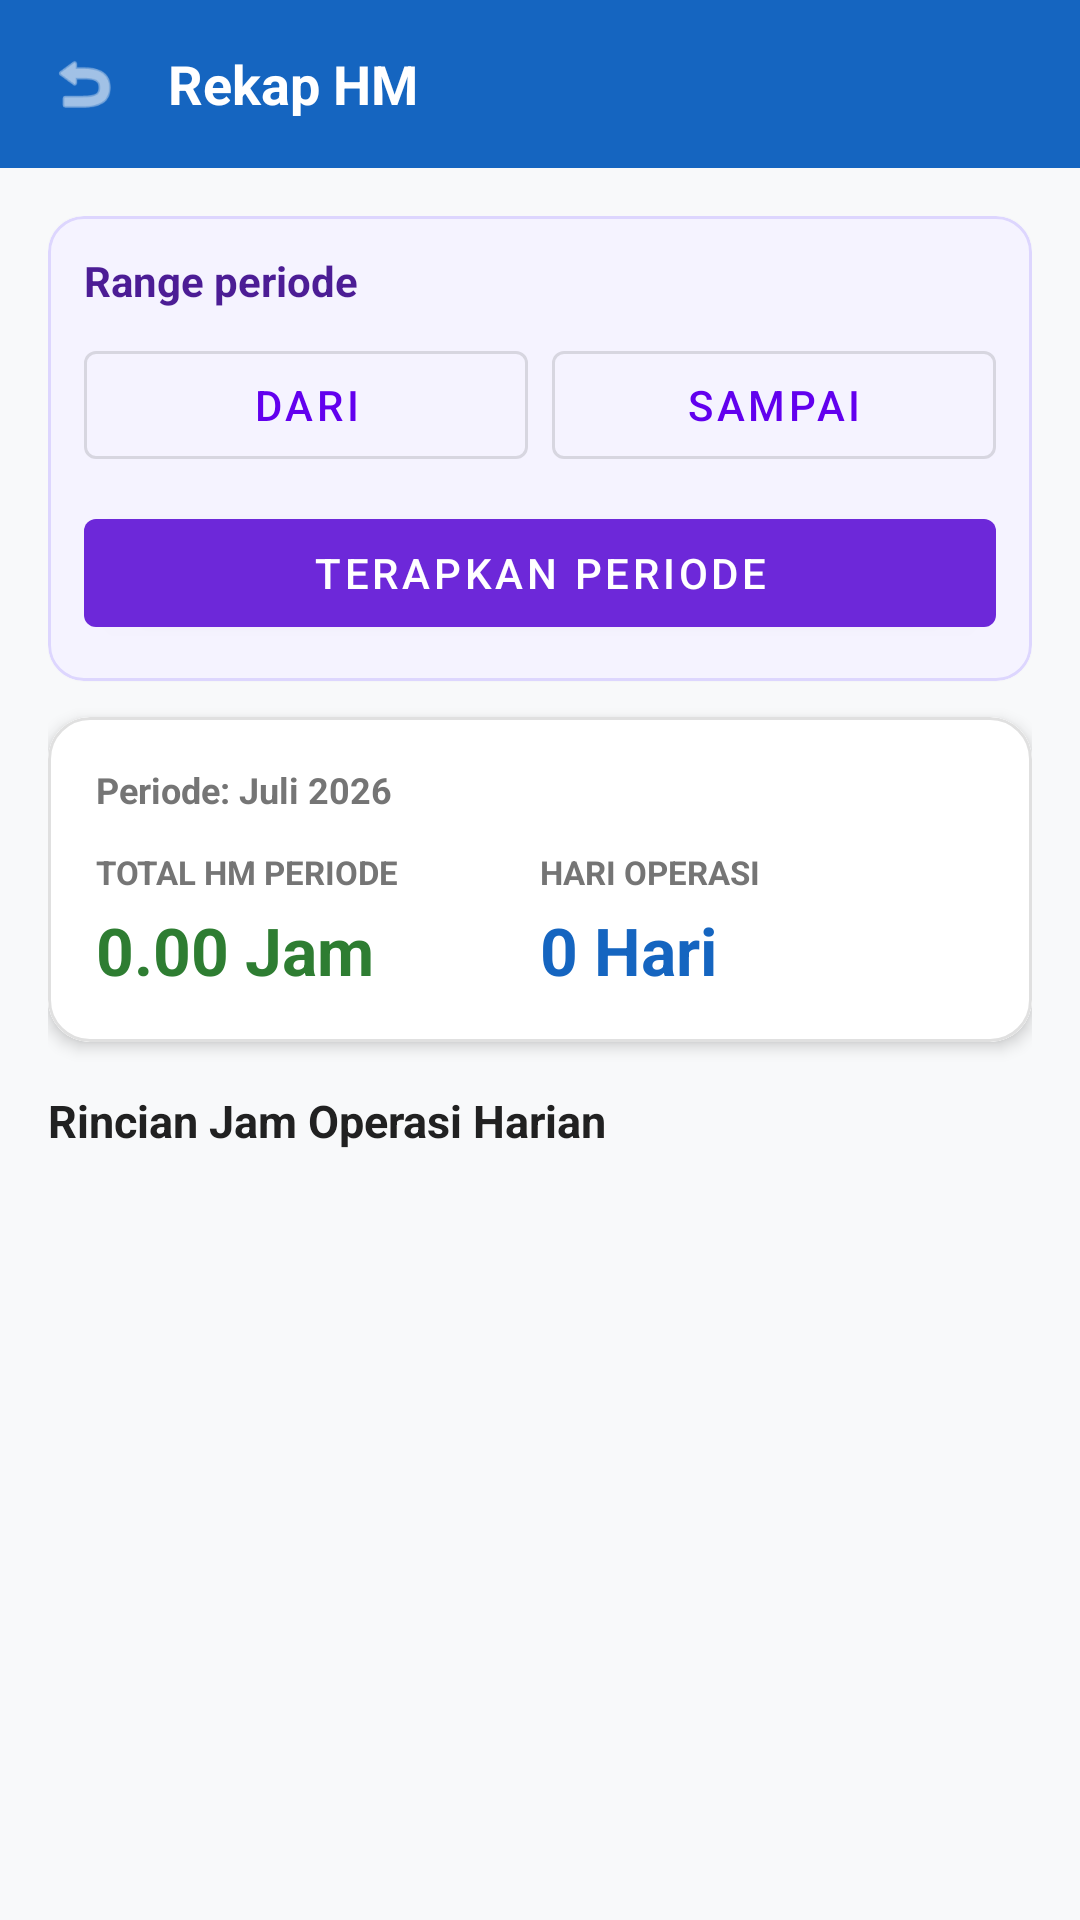

Icons on this 1080 × 1920 Android screen, each with its box as rect(x1, y1, x2, y2):
Kembali: rect(59, 61, 111, 108)
